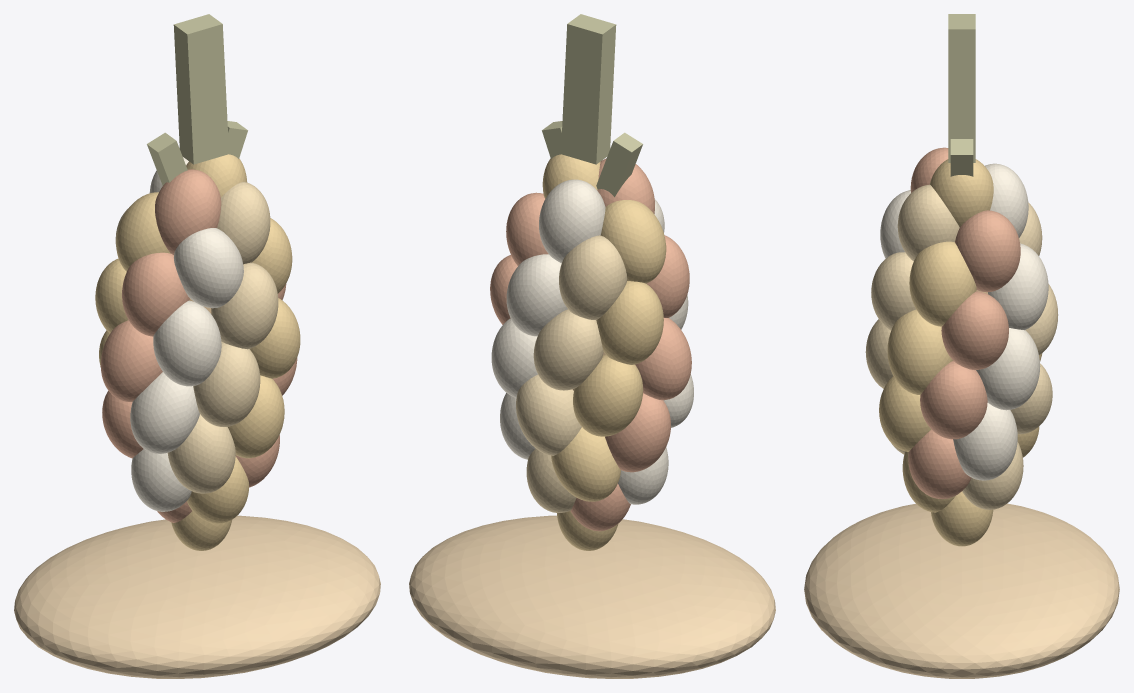
File: date_cluster.glb
3 views of the same model, side by side, from view 1: azimuth 30°, elevation 25°; view 2: azimuth 150°, elevation 25°; view 3: azimuth 270°, elevation 25° (orthographic).
Parts seen in each view (by area): view 1: Mound, Stem, Date_14, Date_6, Date_22, Date_9, Date_19, Date_1, Date_11, Date_27, Date_17, Date_3 (+13 smaller); view 2: Mound, Stem, Date_7, Date_15, Date_20, Date_12, Date_2, Date_4, Date_23, Date_10, Date_28, Date_25 (+15 smaller); view 3: Mound, Date_8, Date_13, Date_5, Date_21, Date_16, Stem, Date_18, Date_26, Date_3, Date_29, Date_10 (+14 smaller).
Part boxes in pixels (box(x1,y1,x2,y2)): Mound: box(14, 515, 380, 678); Stem: box(173, 14, 228, 164); Date_14: box(153, 300, 221, 386); Date_6: box(173, 228, 243, 308); Date_22: box(130, 372, 199, 453); Date_9: box(122, 252, 189, 336); Date_19: box(193, 341, 260, 426); Date_1: box(155, 169, 221, 254); Date_11: box(211, 262, 278, 349); Date_27: box(167, 414, 235, 493); Date_17: box(100, 320, 162, 401); Date_3: box(217, 182, 270, 264); Mound: box(409, 515, 775, 678); Stem: box(561, 14, 616, 164); Date_7: box(559, 235, 627, 319); Date_15: box(533, 309, 603, 390); Date_20: box(573, 355, 643, 436); Date_12: box(596, 281, 663, 364); Date_2: box(539, 179, 605, 263); Date_4: box(600, 200, 666, 283); Date_23: box(516, 374, 581, 455); Date_10: box(506, 254, 567, 336); Date_28: box(551, 427, 620, 501); Date_25: box(605, 393, 670, 472); Mound: box(804, 503, 1119, 678); Date_8: box(909, 241, 976, 326); Date_13: box(941, 291, 1008, 369); Date_5: box(955, 210, 1020, 292); Date_21: box(920, 360, 987, 439); Date_16: box(887, 309, 952, 394); Stem: box(948, 14, 975, 162); Date_18: box(976, 328, 1040, 410); Date_26: box(953, 403, 1017, 480); Date_3: box(897, 184, 959, 261); Date_29: box(908, 429, 971, 499); Date_10: box(988, 243, 1048, 330).
Bounding box in the file's own units: 0.84 × 1.49 × 0.7.
